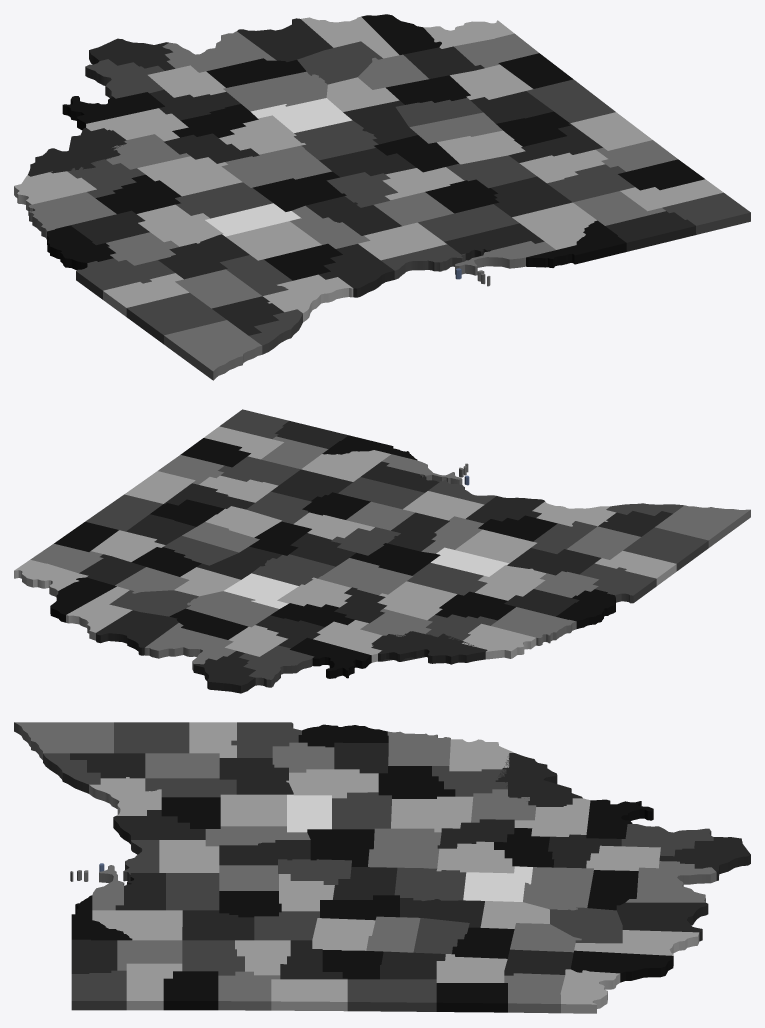
Rendered from Ohio_Counties_3D.fbx.
The picture shows the model from 3 angles, top to bottom: view 1: azimuth 30°, elevation 25°; view 2: azimuth 150°, elevation 25°; view 3: azimuth 270°, elevation 25°; orthographic projection. The views are drawn at different scales.
Visible parts, largest first — view 1: OH_Ashtabula_County_3D, OH_Trumbull_County_3D, OH_Licking_County_3D, OH_Ross_County_3D, OH_Washington_County_3D, OH_Muskingum_County_3D, OH_Scioto_County_3D, OH_Wood_County_3D, OH_Lorain_County_3D, OH_Adams_County_3D, OH_Stark_County_3D, OH_Lucas_County_3D (+76 smaller); view 2: OH_Washington_County_3D, OH_Ashtabula_County_3D, OH_Scioto_County_3D, OH_Trumbull_County_3D, OH_Adams_County_3D, OH_Licking_County_3D, OH_Ross_County_3D, OH_Muskingum_County_3D, OH_Belmont_County_3D, OH_Lawrence_County_3D, OH_Gallia_County_3D, OH_Meigs_County_3D (+76 smaller); view 3: OH_Darke_County_3D, OH_Ashtabula_County_3D, OH_Licking_County_3D, OH_Scioto_County_3D, OH_Ross_County_3D, OH_Washington_County_3D, OH_Muskingum_County_3D, OH_Adams_County_3D, OH_Mercer_County_3D, OH_Trumbull_County_3D, OH_Wood_County_3D, OH_Clermont_County_3D (+76 smaller).
Boxes of the visible parts, x1,y1,x2,y2 form: OH_Ashtabula_County_3D: [164, 320, 262, 380]; OH_Trumbull_County_3D: [126, 292, 226, 344]; OH_Licking_County_3D: [221, 145, 331, 187]; OH_Ross_County_3D: [223, 71, 327, 111]; OH_Washington_County_3D: [28, 127, 126, 176]; OH_Muskingum_County_3D: [137, 156, 242, 196]; OH_Scioto_County_3D: [162, 31, 276, 72]; OH_Wood_County_3D: [512, 202, 597, 249]; OH_Lorain_County_3D: [319, 244, 394, 297]; OH_Adams_County_3D: [237, 18, 333, 61]; OH_Stark_County_3D: [158, 234, 249, 279]; OH_Lucas_County_3D: [526, 220, 626, 267]; OH_Washington_County_3D: [371, 631, 487, 664]; OH_Ashtabula_County_3D: [655, 505, 750, 547]; OH_Scioto_County_3D: [144, 623, 235, 671]; OH_Trumbull_County_3D: [623, 527, 708, 571]; OH_Adams_County_3D: [96, 610, 178, 655]; OH_Licking_County_3D: [318, 558, 412, 595]; OH_Ross_County_3D: [186, 591, 279, 627]; OH_Muskingum_County_3D: [377, 581, 457, 620]; OH_Belmont_County_3D: [491, 607, 576, 645]; OH_Lawrence_County_3D: [193, 651, 255, 693]; OH_Gallia_County_3D: [239, 645, 314, 687]; OH_Meigs_County_3D: [290, 637, 371, 678]; OH_Darke_County_3D: [347, 979, 436, 1011]; OH_Ashtabula_County_3D: [14, 722, 113, 759]; OH_Licking_County_3D: [368, 828, 441, 868]; OH_Scioto_County_3D: [625, 861, 716, 902]; OH_Ross_County_3D: [523, 867, 593, 910]; OH_Washington_County_3D: [495, 753, 582, 806]; OH_Muskingum_County_3D: [391, 796, 473, 832]; OH_Adams_County_3D: [616, 902, 708, 941]; OH_Mercer_County_3D: [271, 979, 347, 1011]; OH_Trumbull_County_3D: [114, 722, 189, 753]; OH_Wood_County_3D: [92, 910, 182, 940]; OH_Clermont_County_3D: [570, 950, 673, 982].
Size of the model in its own units: 655 by 10 by 723.
